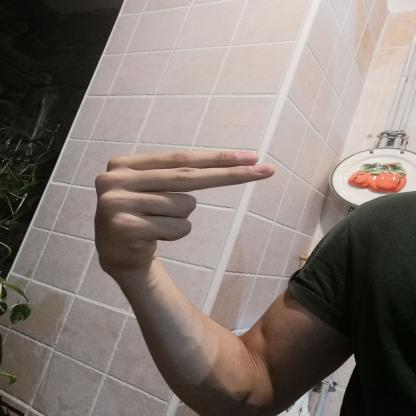AYN: (73, 134, 288, 278)
